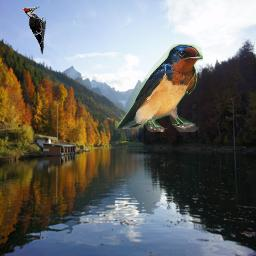Swallow: (115, 44, 203, 132)
Woodpecker: (23, 6, 46, 56)
